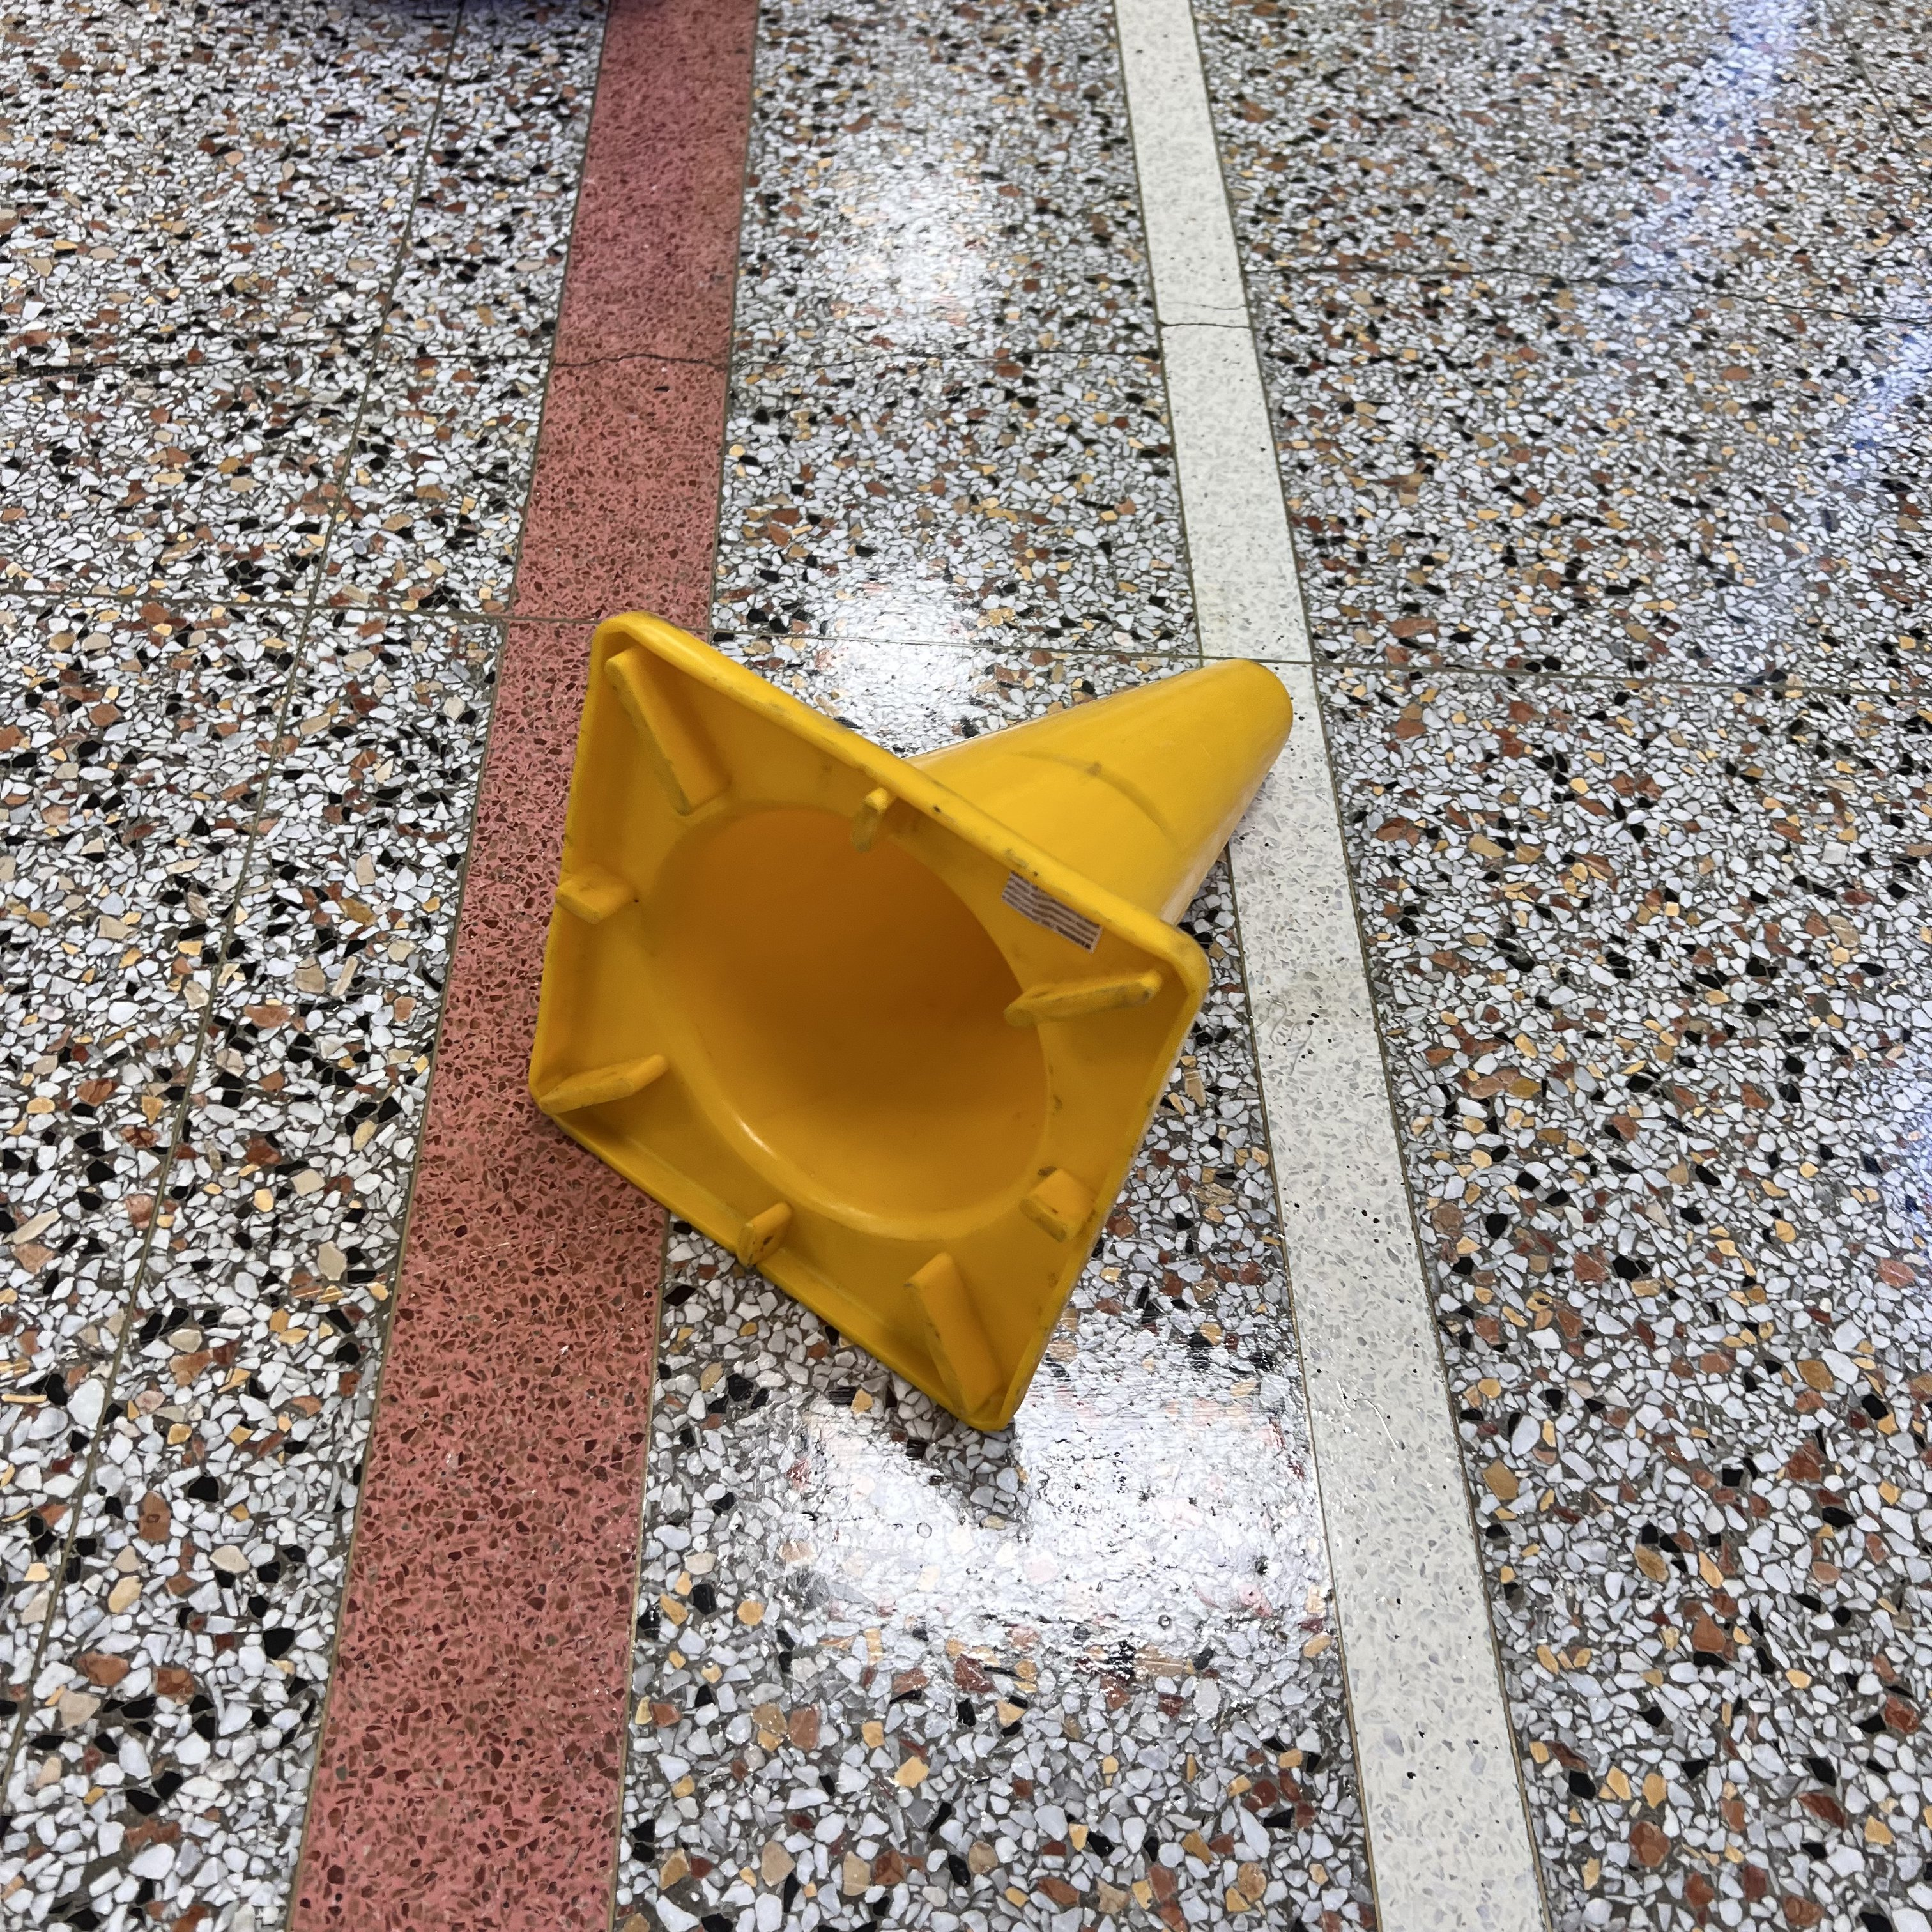cone: (524, 609, 1292, 1431)
